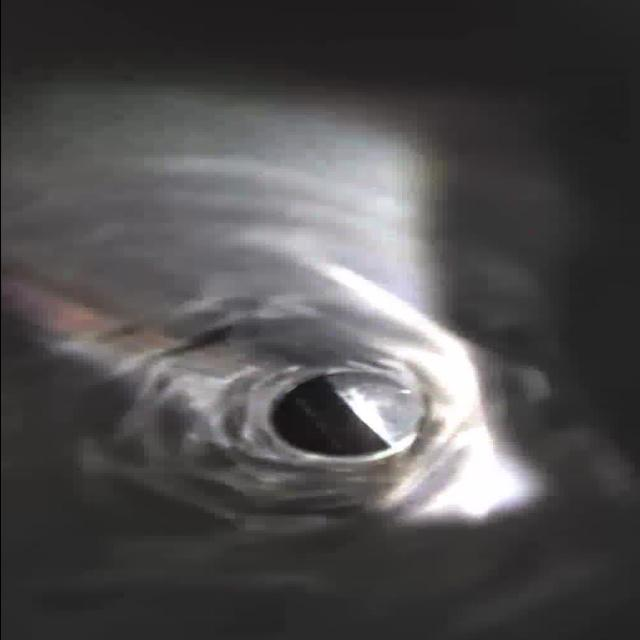crack: (102, 334, 252, 458), (139, 469, 397, 536)
